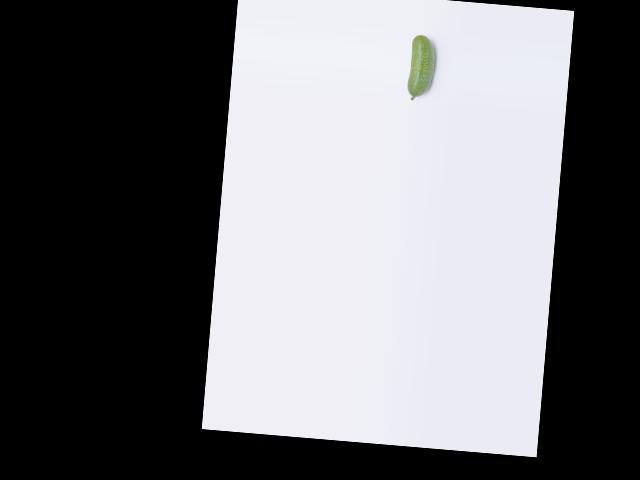cucumber: (406, 33, 437, 101)
